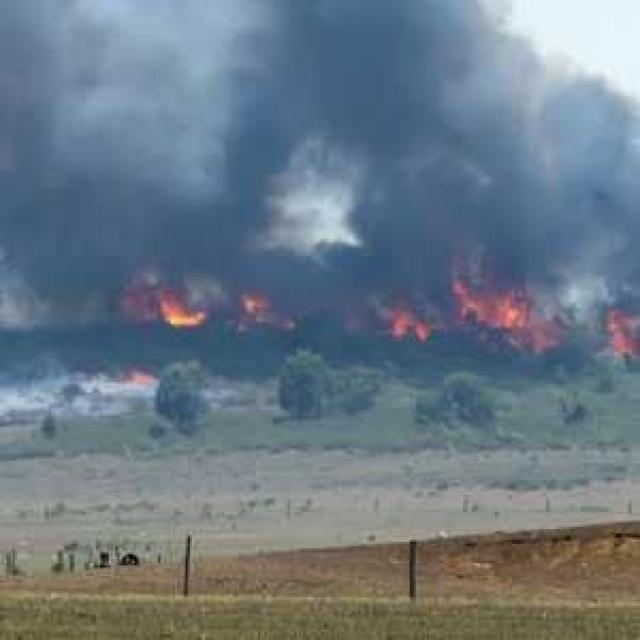Smoke: (0, 0, 640, 317)
